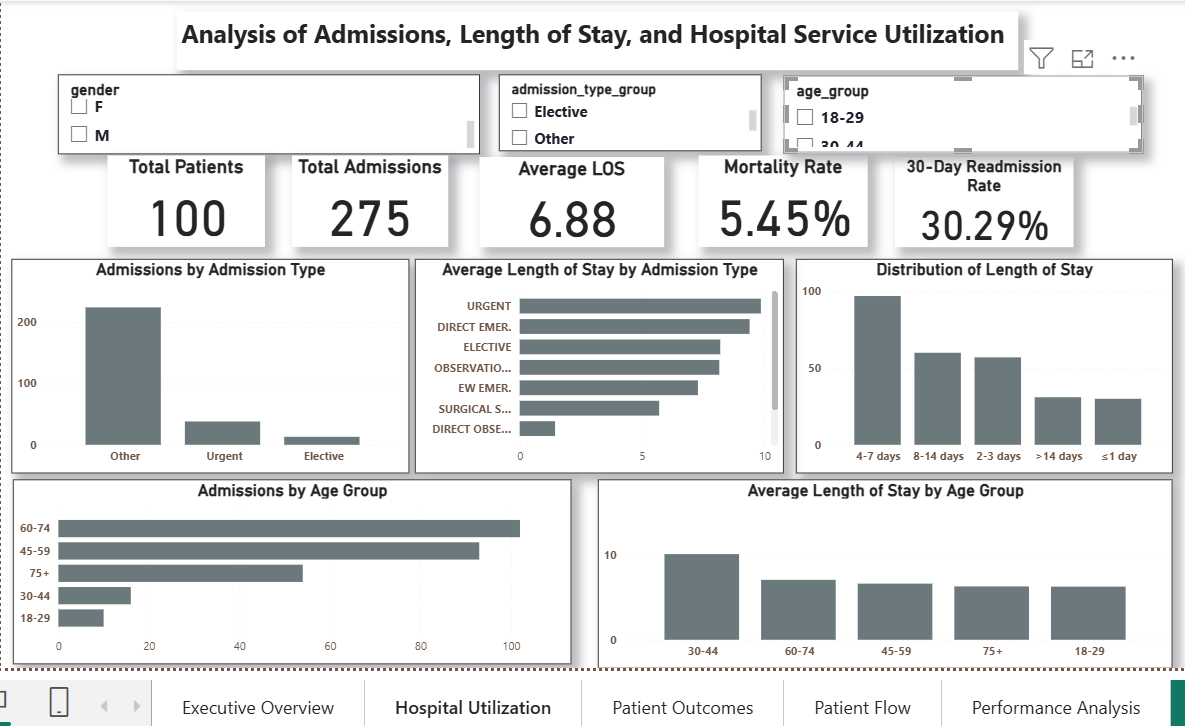

The dashboard page shown, as its layout file describes it:
{"tool":"powerbi","page":{"name":"Hospital Utilization","canvas":[1280,720],"ordinal":1},"visuals":[{"type":"textbox","box":[189.4,11.3,908.4,63.1],"z":0},{"type":"slicer","fields":{"Values":["hospital_analytics.admission_type_group"]},"box":[537.6,79.3,283.4,82.6],"z":1000},{"type":"slicer","fields":{"Values":["hospital_analytics.age_group"]},"box":[845.2,81,387,82.6],"z":2000},{"type":"slicer","fields":{"Values":["hospital_analytics.gender"]},"box":[61.5,79.3,455,85.8],"z":3000},{"type":"card","title":"Total Patients","fields":{"Values":["hospital_analytics.Total Patients"]},"box":[115,166.8,170,98.8],"z":4000},{"type":"card","title":"Total Admissions","fields":{"Values":["hospital_analytics.Total Admissions"]},"box":[314.1,166.8,168.4,98.8],"z":5000},{"type":"card","title":"Average LOS","fields":{"Values":["hospital_analytics.Average LOS"]},"box":[516.5,168.4,199.2,97.2],"z":6000},{"type":"card","title":"Mortality Rate","fields":{"Values":["hospital_analytics.Mortality Rate"]},"box":[752.9,166.8,183,98.8],"z":7000},{"type":"card","title":"30-Day Readmission Rate","fields":{"Values":["hospital_analytics.30-Day Readmission Rate"]},"box":[965.1,168.4,192.7,97.2],"z":8000},{"type":"clusteredColumnChart","title":"Admissions by Admission Type","fields":{"Category":["hospital_analytics.admission_type_group"],"Y":["hospital_analytics.Total Admissions"]},"box":[11.3,278.5,429.1,231.5],"z":9000},{"type":"clusteredColumnChart","title":"Distribution of Length of Stay","fields":{"Category":["hospital_analytics.los_category"],"Y":["hospital_analytics.Total Admissions"]},"box":[858.2,278.5,406.4,231.5],"z":10000},{"type":"clusteredBarChart","title":"Average Length of Stay by Admission Type","fields":{"Category":["hospital_analytics.admission_type"],"Y":["hospital_analytics.Average LOS"]},"box":[446.9,278.5,398.3,231.5],"z":11000},{"type":"clusteredBarChart","title":"Admissions by Age Group","fields":{"Category":["hospital_analytics.age_group"],"Y":["hospital_analytics.Total Admissions"]},"box":[13,516.5,602.4,199.2],"z":12000},{"type":"clusteredColumnChart","title":"Average Length of Stay by Age Group","fields":{"Category":["hospital_analytics.age_group"],"Y":["hospital_analytics.Average LOS"]},"box":[644.5,516.5,620.2,204],"z":13000}]}

Visuals, with their boxes on the page's 1280x720 design canvas (x1, y1, x2, y2). These are canvas units, not pixel positions in the 1185x726 screenshot, which may show the page scaled, cropped or inside an application window:
textbox: x1=189 y1=11 x2=1098 y2=74
slicer - hospital_analytics.admission_type_group: x1=538 y1=79 x2=821 y2=162
slicer - hospital_analytics.age_group: x1=845 y1=81 x2=1232 y2=164
slicer - hospital_analytics.gender: x1=62 y1=79 x2=516 y2=165
"Total Patients" card: x1=115 y1=167 x2=285 y2=266
"Total Admissions" card: x1=314 y1=167 x2=482 y2=266
"Average LOS" card: x1=516 y1=168 x2=716 y2=266
"Mortality Rate" card: x1=753 y1=167 x2=936 y2=266
"30-Day Readmission Rate" card: x1=965 y1=168 x2=1158 y2=266
"Admissions by Admission Type" clusteredColumnChart: x1=11 y1=278 x2=440 y2=510
"Distribution of Length of Stay" clusteredColumnChart: x1=858 y1=278 x2=1265 y2=510
"Average Length of Stay by Admission Type" clusteredBarChart: x1=447 y1=278 x2=845 y2=510
"Admissions by Age Group" clusteredBarChart: x1=13 y1=516 x2=615 y2=716
"Average Length of Stay by Age Group" clusteredColumnChart: x1=644 y1=516 x2=1265 y2=720
